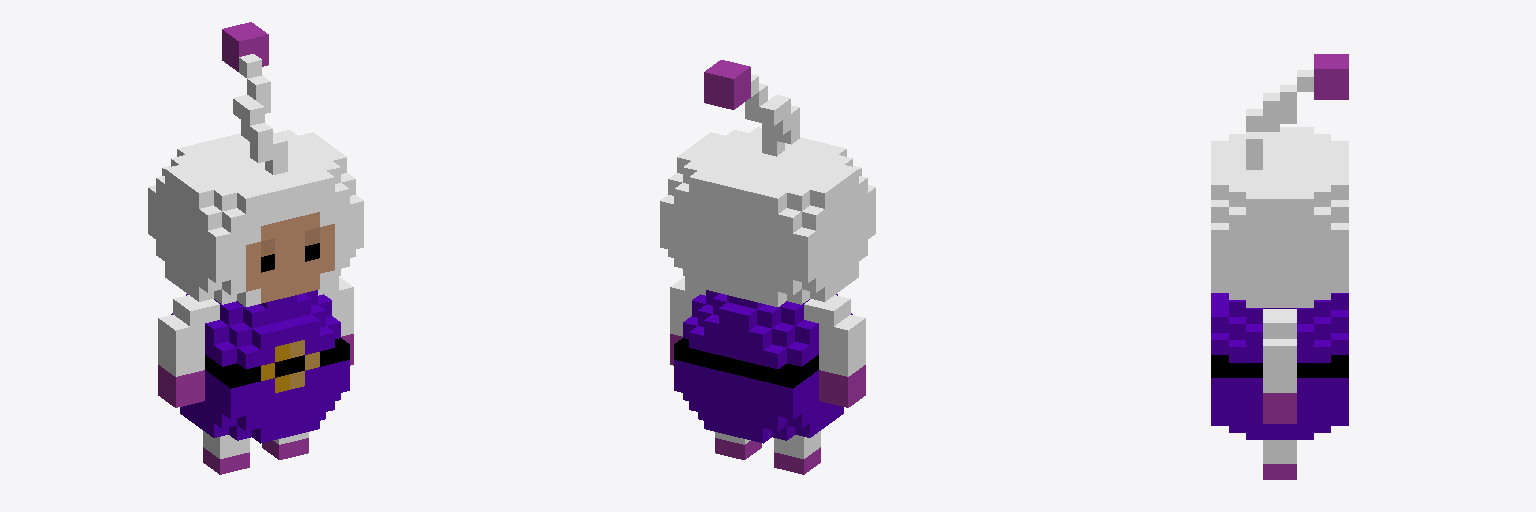
3 renders of one model, left to right at view 1: azimuth 30°, elevation 25°; view 2: azimuth 150°, elevation 25°; view 3: azimuth 270°, elevation 25°, orthographic.
Parts seen in each view (by area): view 1: bboi_stand2; view 2: bboi_stand2; view 3: bboi_stand2.
Boxes of the visible parts, <box> form: bboi_stand2: <box>148,22,363,474</box>; bboi_stand2: <box>660,60,875,474</box>; bboi_stand2: <box>1211,54,1348,479</box>.
Size of the model in its own units: 12 by 26 by 8.
1 materials, 1 textured.